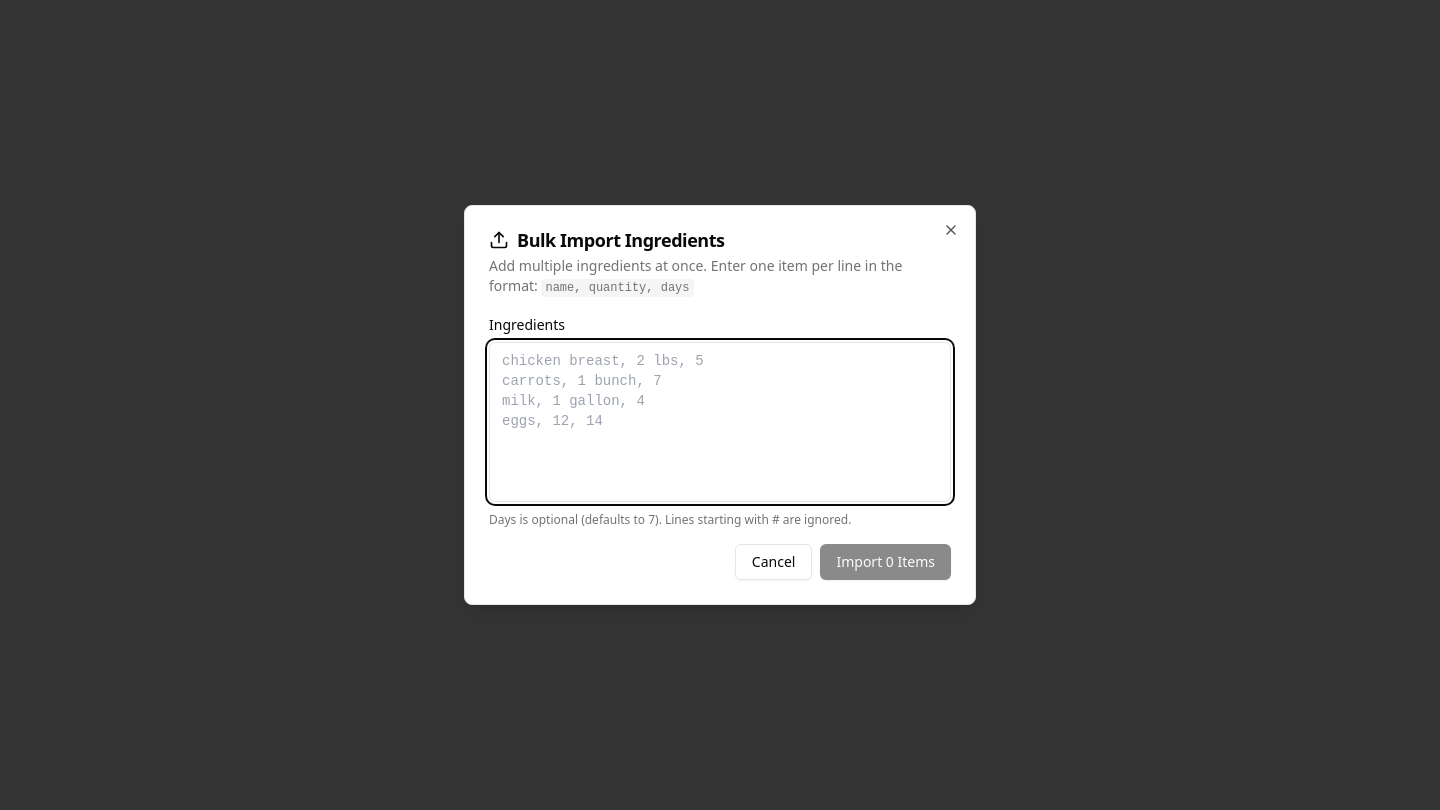
BulkFridgeImportDialog › parsing input › should detect invalid lines missing quantity
The image size is (1440, 810).
In the text box labelled "Ingredients": (720, 422) 489,342 -> 951,502, type "chicken"
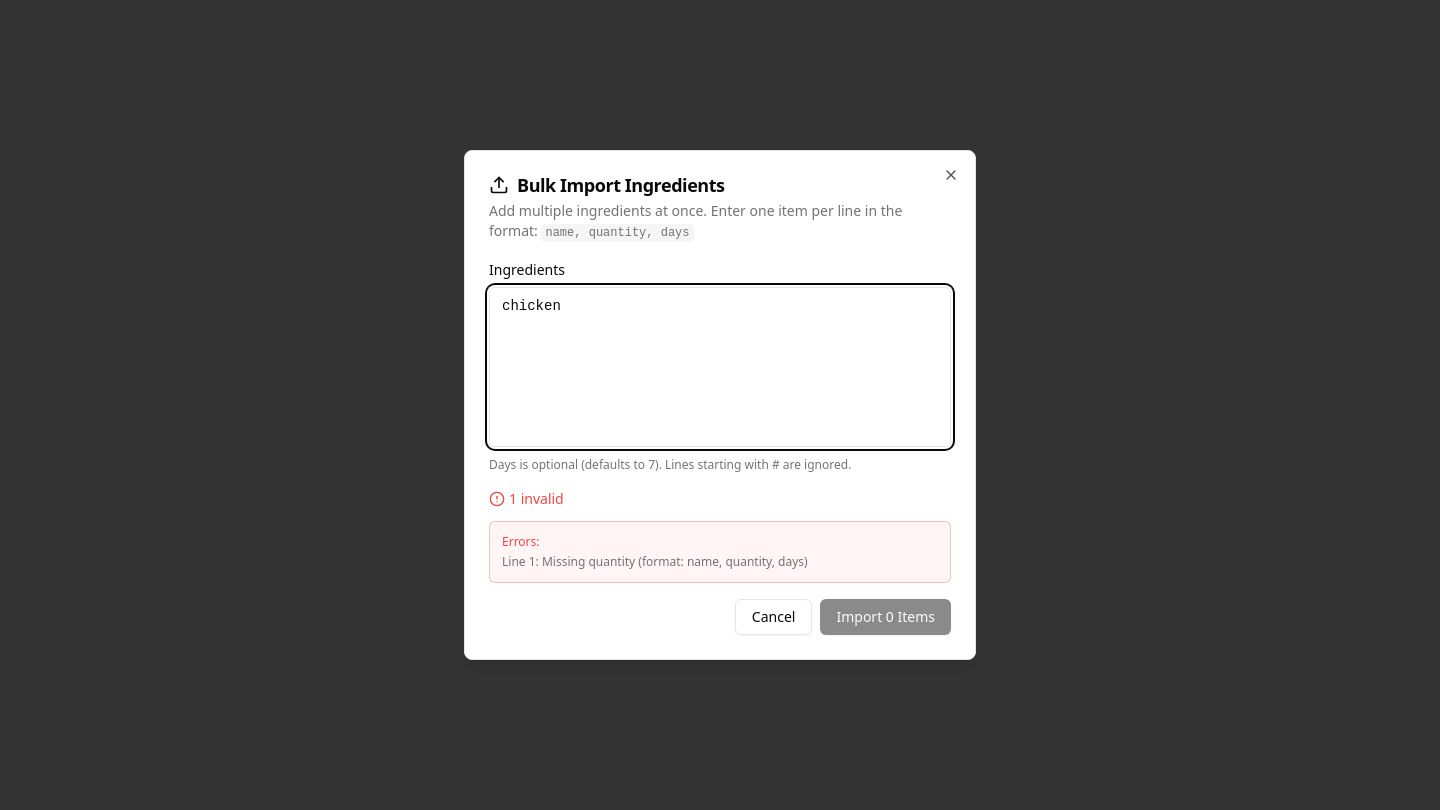
Result: the text "1 invalid" is shown at 509,489 -> 564,509
Result: the list item "Line 1: Missing quantity (format: name, quantity, days)" is shown at 502,553 -> 808,570
